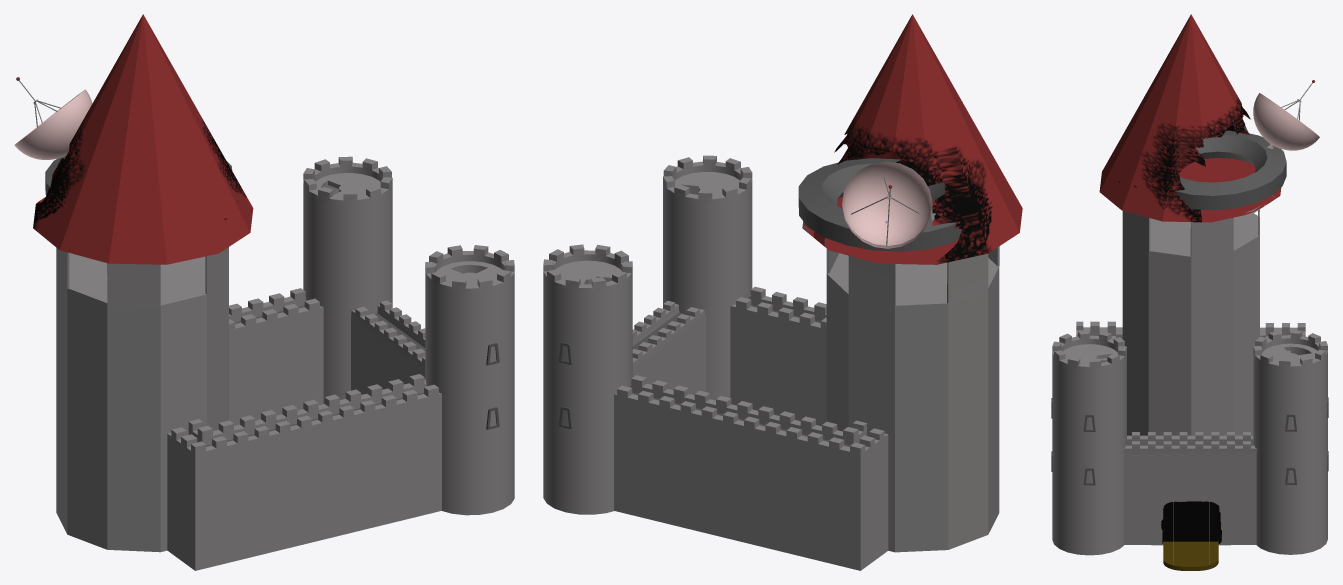
Rendered from Castlev4.fbx.
3 views of the same model, side by side, from view 1: azimuth 30°, elevation 25°; view 2: azimuth 150°, elevation 25°; view 3: azimuth 270°, elevation 25° (orthographic). The views are drawn at different scales.
Parts seen in each view (by area): view 1: Gate_and_chains1; view 2: Gate_and_chains1; view 3: Gate_and_chains1.
Part boxes in pixels (x1,y1,x2,y2): Gate_and_chains1: (14, 14, 514, 570); Gate_and_chains1: (543, 14, 1022, 570); Gate_and_chains1: (1051, 14, 1328, 570).
Size of the model in its own units: 35.03 by 38.51 by 23.14.
1 material, 1 textured.
